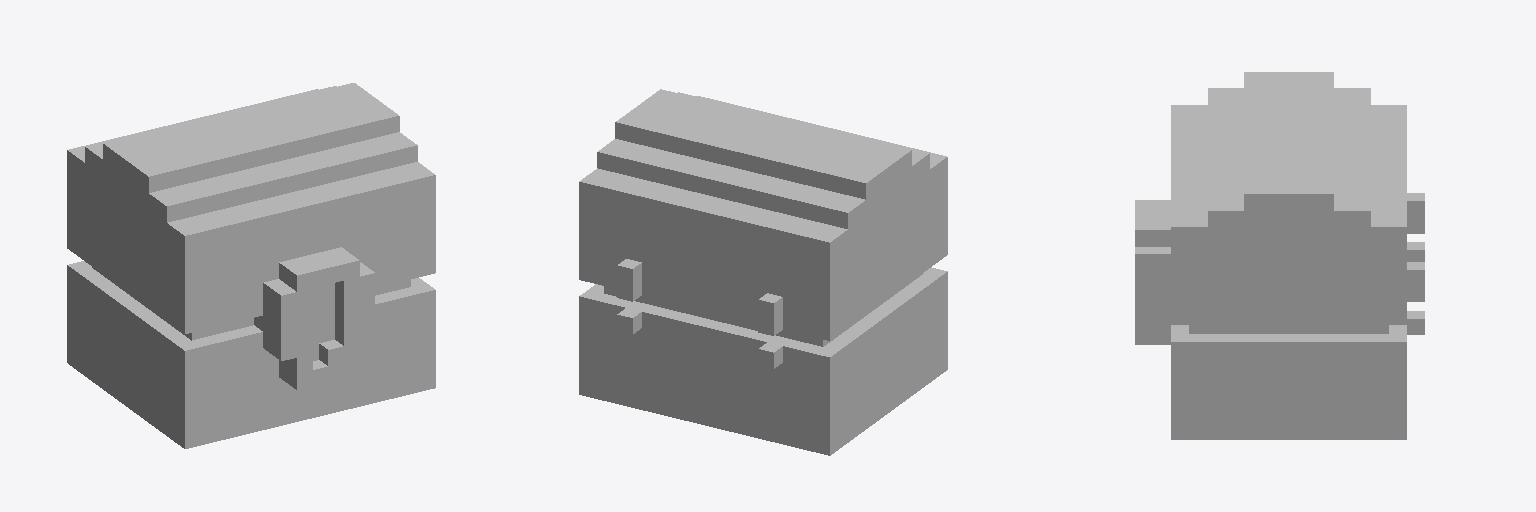
Rendered from SmallChest_02.obj.
3 views of the same model, side by side, from view 1: azimuth 30°, elevation 25°; view 2: azimuth 150°, elevation 25°; view 3: azimuth 270°, elevation 25° (orthographic).
Visible parts, largest first — view 1: SmallChest_02.002; view 2: SmallChest_02.002; view 3: SmallChest_02.002.
Part boxes in pixels (x1,y1,x2,y2): SmallChest_02.002: (67,83,435,448); SmallChest_02.002: (579,89,947,455); SmallChest_02.002: (1135,72,1424,439).
Size of the model in its own units: 1.6 by 1.5 by 1.6.